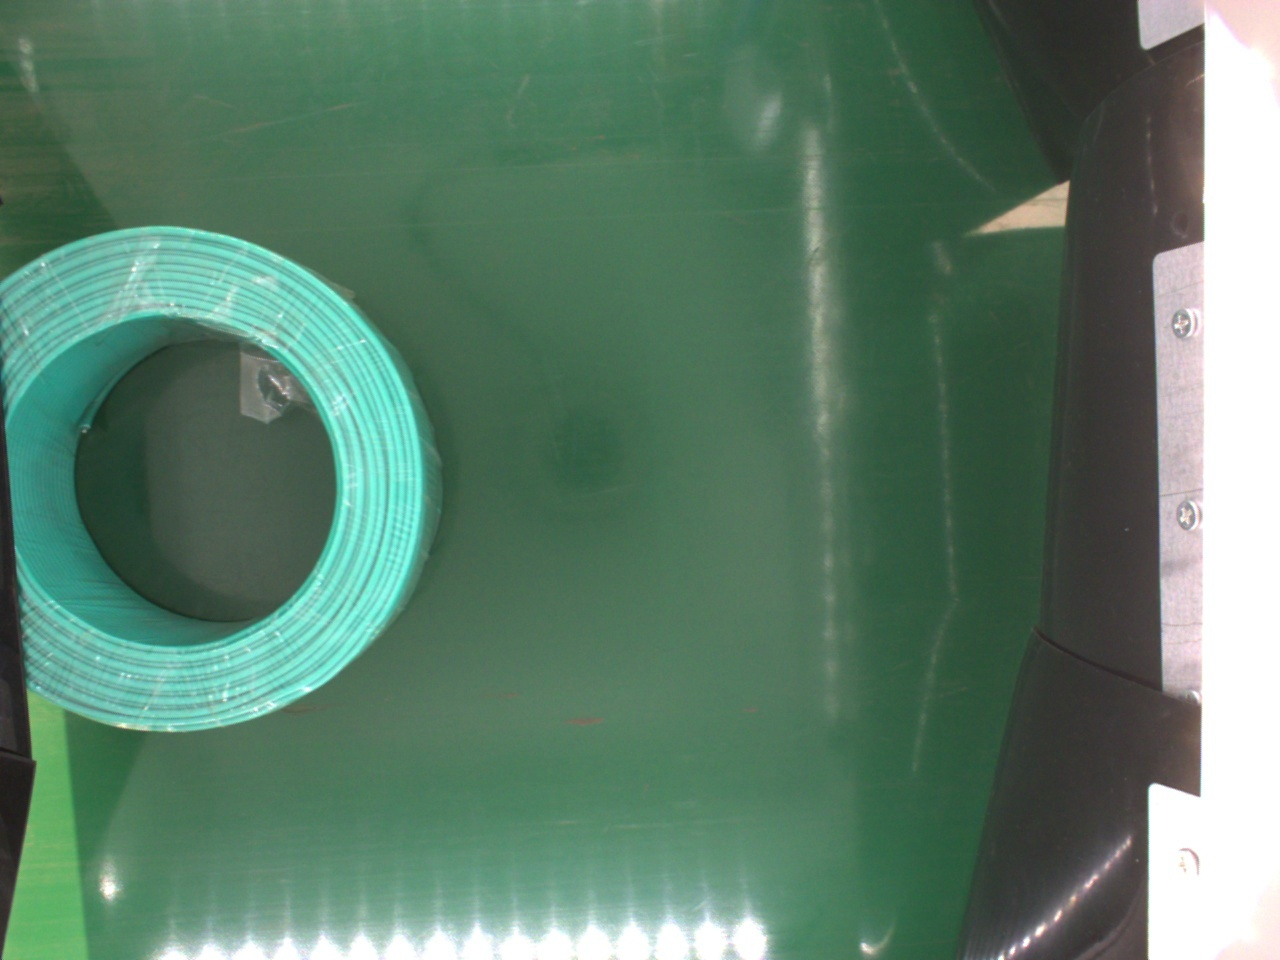green: (5, 226, 435, 729)
